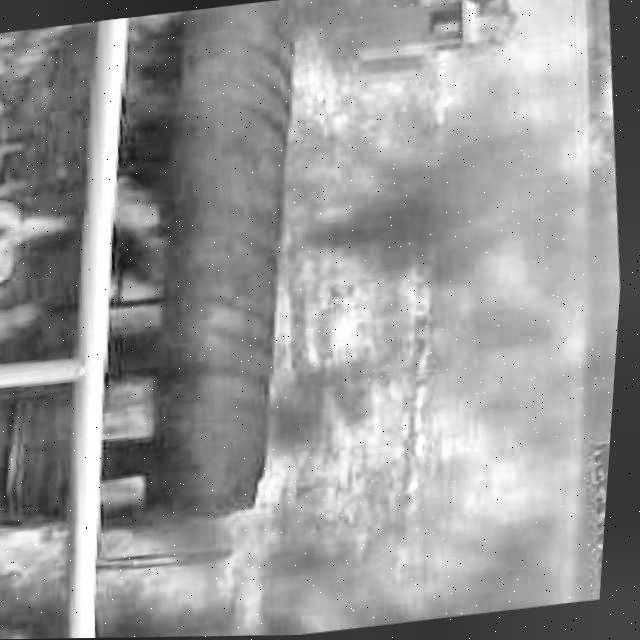Fire: (0, 25, 88, 358), (96, 296, 182, 507), (0, 508, 81, 640), (107, 180, 173, 288)
Smoke: (181, 0, 640, 637)
